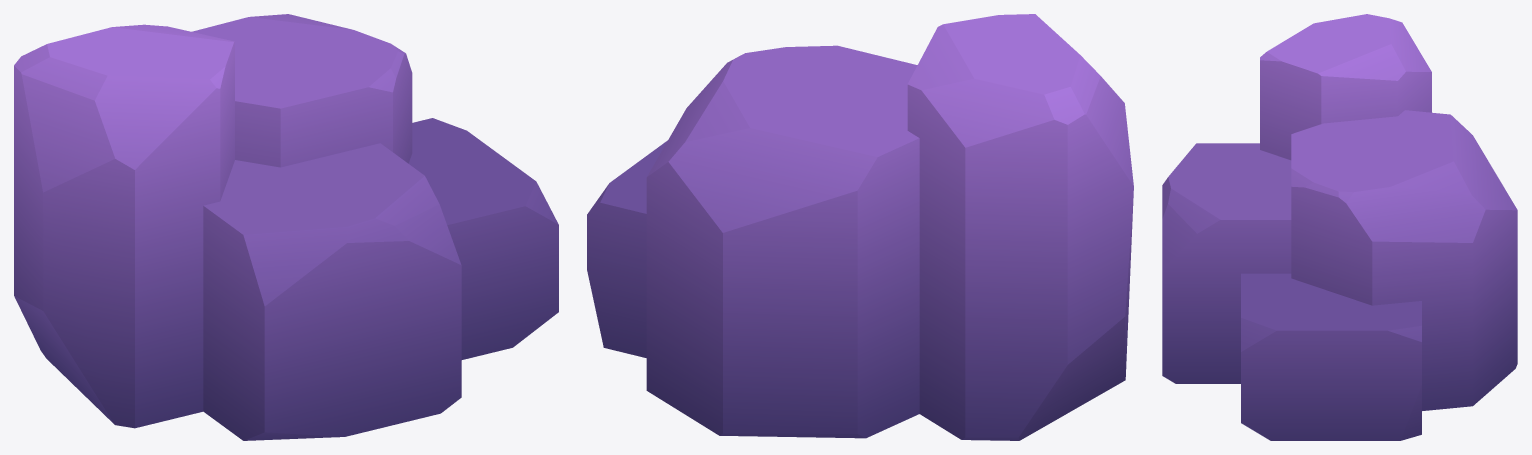
Rendered from Crystal_P_9.glb.
3 renders of one model, left to right at view 1: azimuth 30°, elevation 25°; view 2: azimuth 150°, elevation 25°; view 3: azimuth 270°, elevation 25°, orthographic. The views are drawn at different scales.
Visible parts, largest first — view 1: crystal_9; view 2: crystal_9; view 3: crystal_9.
Boxes of the visible parts, left/top/right/bottom form: crystal_9: left=14, top=14, right=558, bottom=440; crystal_9: left=587, top=14, right=1133, bottom=440; crystal_9: left=1162, top=14, right=1517, bottom=440.
Size of the model in its own units: 1 by 0.6726 by 0.8337.
Materials: 1 (1 with a texture image).
